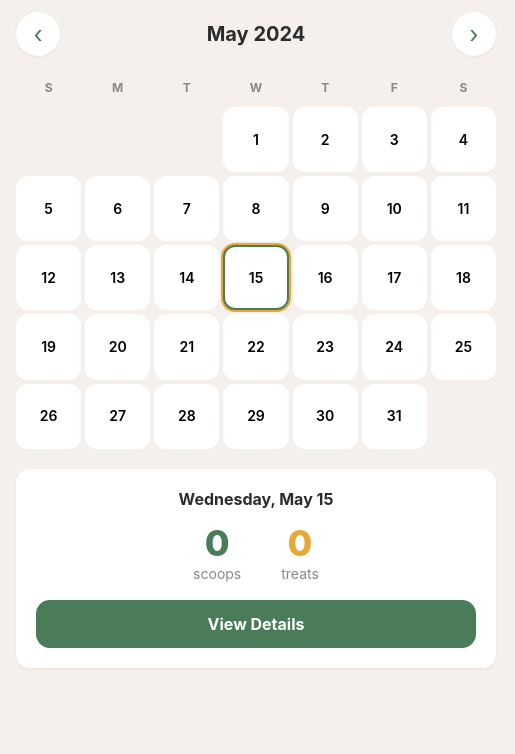
it: Calendar › next button navigates to next month
Expected: the heading "May 2024" is shown, [207,22,305,46]
Step 1. Click the button named "Next month" → [474, 34], box [452,12,496,56]
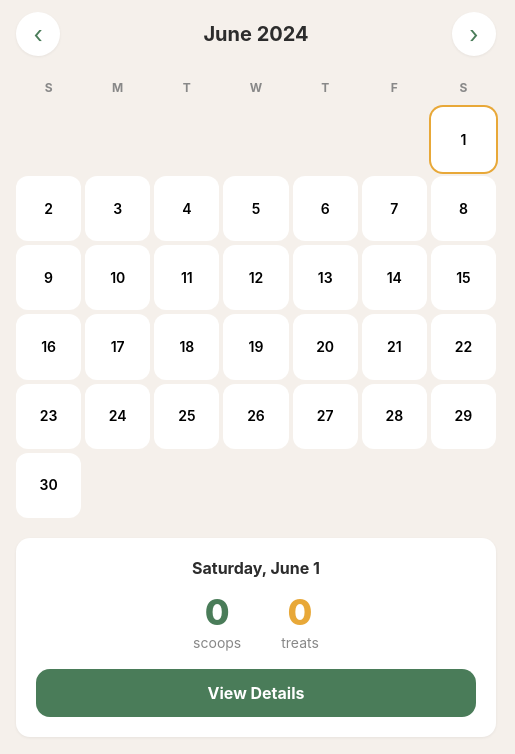
Expected: the heading "June 2024" is shown, [203,22,308,46]
